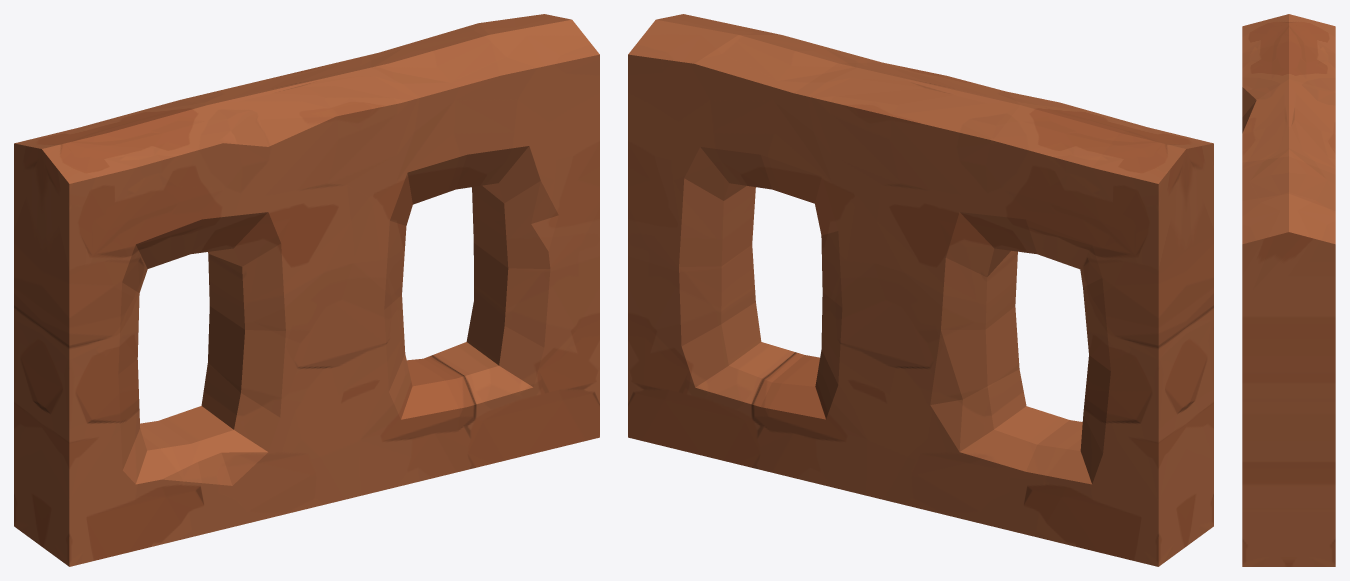
Rendered from SM_Bld_Wall_Balcony_Half_03.fbx.
3 renders of one model, left to right at view 1: azimuth 30°, elevation 25°; view 2: azimuth 150°, elevation 25°; view 3: azimuth 270°, elevation 25°, orthographic. The views are drawn at different scales.
Parts seen in each view (by area): view 1: SM_Bld_Wall_Balcony_Half_03; view 2: SM_Bld_Wall_Balcony_Half_03; view 3: SM_Bld_Wall_Balcony_Half_03.
Boxes of the visible parts, x1=… form: SM_Bld_Wall_Balcony_Half_03: x1=14, y1=14, x2=599, y2=566; SM_Bld_Wall_Balcony_Half_03: x1=628, y1=14, x2=1213, y2=566; SM_Bld_Wall_Balcony_Half_03: x1=1242, y1=14, x2=1335, y2=566.
Size of the model in its own units: 125 by 90.66 by 22.63.
